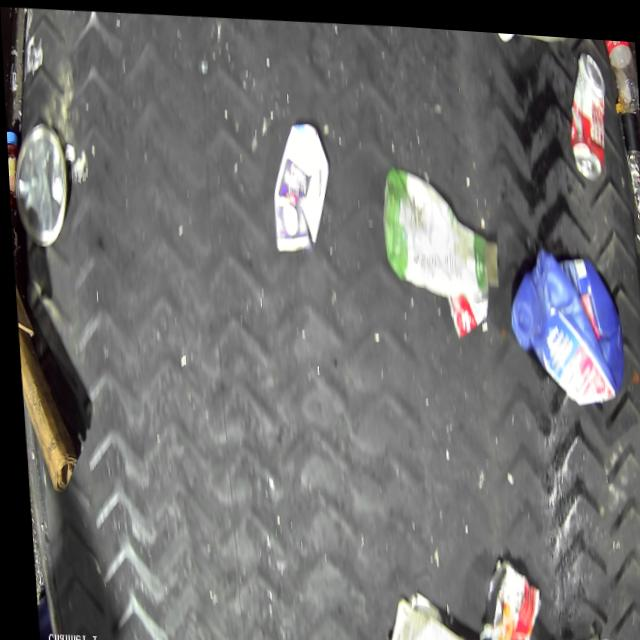can: (468, 546, 537, 640), (562, 40, 609, 175)
non_white_jug: (500, 233, 626, 402)
plastic_bottle: (599, 31, 638, 109)
